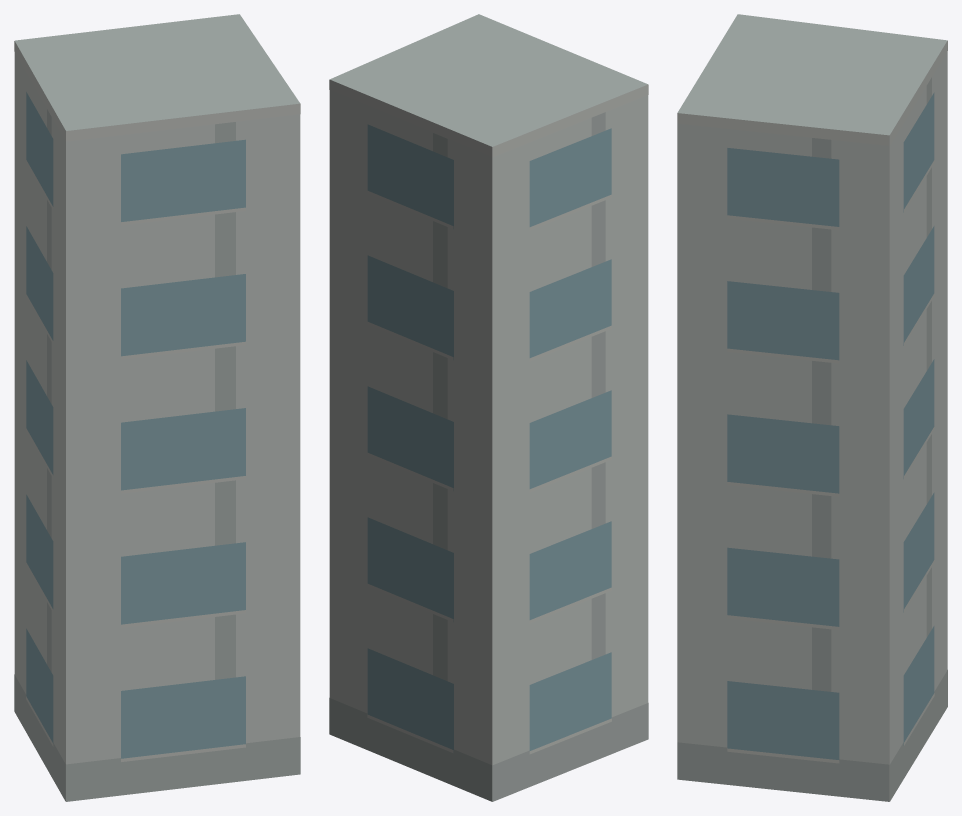
Rendered from survey-upis-32505070.glb.
3 renders of one model, left to right at view 1: azimuth 30°, elevation 25°; view 2: azimuth 150°, elevation 25°; view 3: azimuth 270°, elevation 25°, orthographic. The views are drawn at different scales.
Parts seen in each view (by area): view 1: survey-upis-32505070.tmp; view 2: survey-upis-32505070.tmp; view 3: survey-upis-32505070.tmp.
Part boxes in pixels (box(x1,y1,x2,y2)): survey-upis-32505070.tmp: box(14, 14, 300, 801); survey-upis-32505070.tmp: box(329, 14, 648, 801); survey-upis-32505070.tmp: box(677, 14, 947, 801).
Size of the model in its own units: 5.96 by 15.25 by 5.62.
